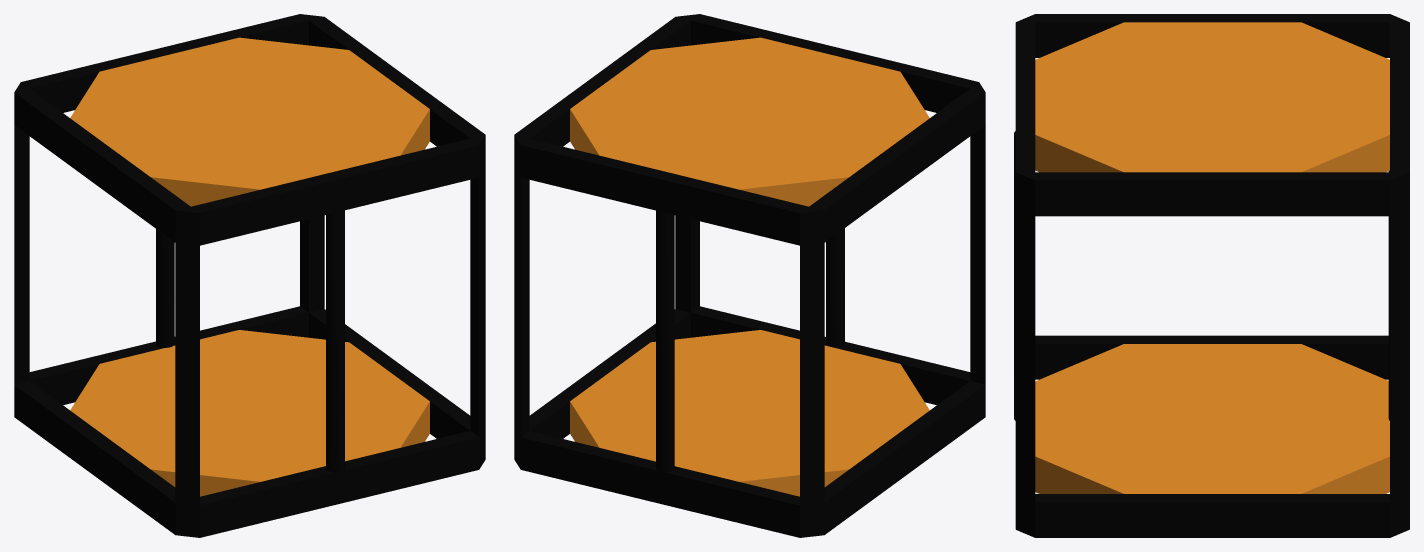
Rendered from squaredplate.glb.
3 views of the same model, side by side, from view 1: azimuth 30°, elevation 25°; view 2: azimuth 150°, elevation 25°; view 3: azimuth 270°, elevation 25° (orthographic). The views are drawn at different scales.
Parts seen in each view (by area): view 1: GroundCube, GroundCube.001, Cube.003, Cube.013, Cube, Cube.016, Cube.007, Cylinder.002, Cube.008, Cube.015, Cube.018, Cube.019 (+6 smaller); view 2: GroundCube, GroundCube.001, Cube.008, Cube.015, Cube, Cube.016, Cube.019, Cylinder.001, Cube.003, Cube.013, Cube.017, Cube.007 (+6 smaller); view 3: GroundCube, GroundCube.001, Cube.002, Cube.014, Cube.016, Cube, Cube.018, Cube.017, Cube.003, Cube.008, Cube.004, Cube.005 (+3 smaller).
Part boxes in pixels (x1=…): GroundCube: x1=70, y1=37, x2=429, y2=206; GroundCube.001: x1=70, y1=330, x2=429, y2=496; Cube.003: x1=191, y1=138, x2=479, y2=245; Cube.013: x1=200, y1=431, x2=479, y2=537; Cube: x1=14, y1=88, x2=190, y2=242; Cube.016: x1=14, y1=381, x2=175, y2=534; Cube.007: x1=175, y1=243, x2=199, y2=505; Cylinder.002: x1=326, y1=210, x2=344, y2=472; Cube.008: x1=21, y1=14, x2=308, y2=112; Cube.015: x1=29, y1=306, x2=308, y2=405; Cube.018: x1=470, y1=168, x2=485, y2=436; Cube.019: x1=14, y1=125, x2=29, y2=384; GroundCube: x1=570, y1=37, x2=929, y2=206; GroundCube.001: x1=570, y1=330, x2=929, y2=496; Cube.008: x1=520, y1=138, x2=808, y2=245; Cube.015: x1=520, y1=431, x2=799, y2=537; Cube: x1=809, y1=88, x2=985, y2=242; Cube.016: x1=824, y1=381, x2=985, y2=534; Cube.019: x1=800, y1=243, x2=824, y2=505; Cylinder.001: x1=656, y1=210, x2=674, y2=471; Cube.003: x1=691, y1=14, x2=978, y2=112; Cube.013: x1=691, y1=306, x2=970, y2=405; Cube.017: x1=514, y1=168, x2=529, y2=436; Cube.007: x1=970, y1=125, x2=985, y2=384; GroundCube: x1=1035, y1=22, x2=1389, y2=172; GroundCube.001: x1=1035, y1=344, x2=1389, y2=493; Cube.002: x1=1035, y1=172, x2=1389, y2=216; Cube.014: x1=1035, y1=494, x2=1389, y2=537; Cube.016: x1=1035, y1=335, x2=1388, y2=379; Cube: x1=1035, y1=14, x2=1389, y2=57; Cube.018: x1=1015, y1=208, x2=1035, y2=501; Cube.017: x1=1390, y1=208, x2=1409, y2=501; Cube.003: x1=1015, y1=22, x2=1035, y2=172; Cube.008: x1=1390, y1=22, x2=1409, y2=172; Cube.004: x1=1015, y1=172, x2=1035, y2=215; Cube.005: x1=1390, y1=172, x2=1409, y2=216.
Size of the model in its own units: 2 by 2 by 2.01.
